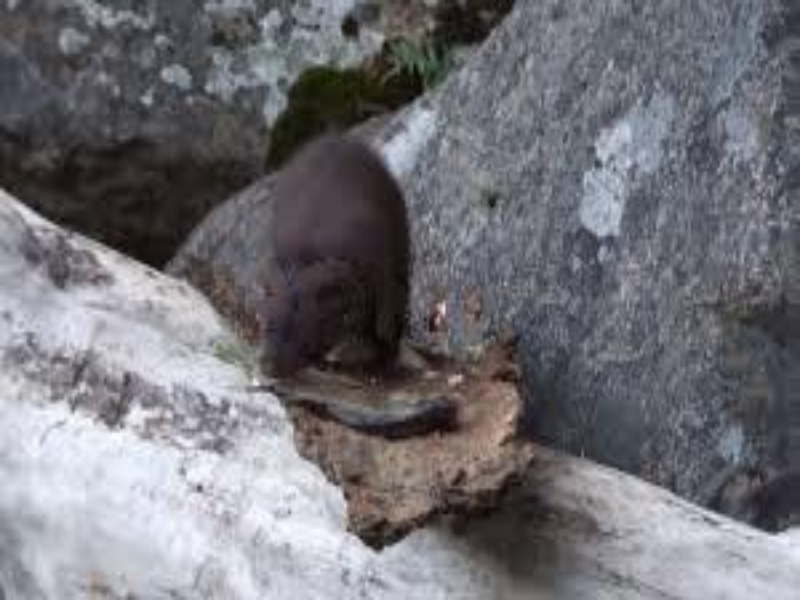minkish: (258, 132, 405, 395)
